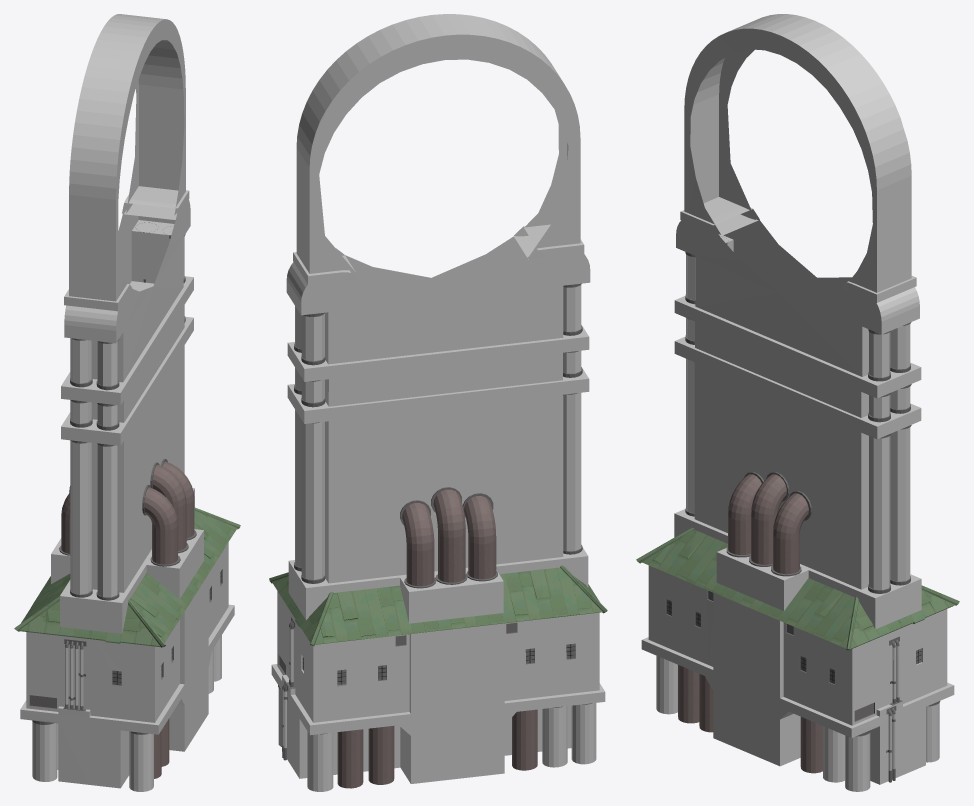
The model's file is AreaJ_PipePillar_Ab.fbx.
3 views of the same model, side by side, from view 1: azimuth 30°, elevation 25°; view 2: azimuth 150°, elevation 25°; view 3: azimuth 270°, elevation 25° (orthographic). The views are drawn at different scales.
Visible parts, largest first — view 1: SM_ENV_AMVLLG02_AreaJ_PipePillar_Ab.mo; view 2: SM_ENV_AMVLLG02_AreaJ_PipePillar_Ab.mo; view 3: SM_ENV_AMVLLG02_AreaJ_PipePillar_Ab.mo.
Boxes of the visible parts, x1,y1,x2,y2 form: SM_ENV_AMVLLG02_AreaJ_PipePillar_Ab.mo: (14,14,240,791); SM_ENV_AMVLLG02_AreaJ_PipePillar_Ab.mo: (269,14,607,791); SM_ENV_AMVLLG02_AreaJ_PipePillar_Ab.mo: (636,14,959,791).
Size of the model in its own units: 2046 by 4965 by 2061.
